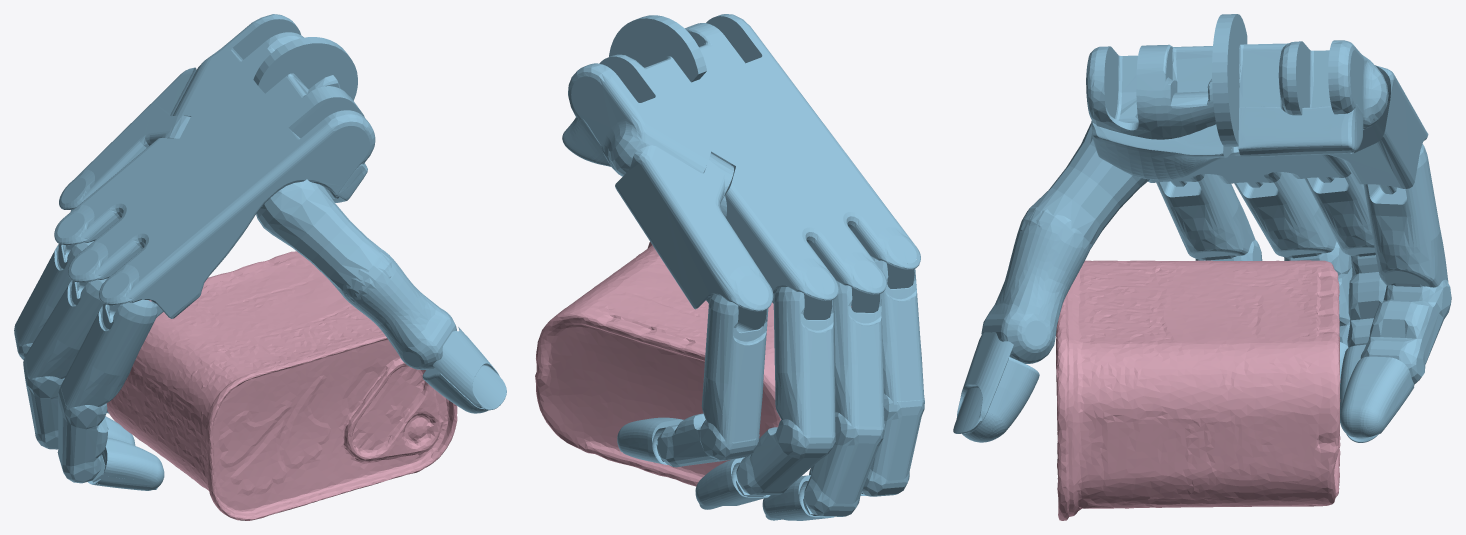
3 renders of one model, left to right at view 1: azimuth 30°, elevation 25°; view 2: azimuth 150°, elevation 25°; view 3: azimuth 270°, elevation 25°, orthographic. The views are drawn at different scales.
Parts seen in each view (by area): view 1: world; view 2: world; view 3: world.
Boxes of the visible parts, x1,y1,x2,y2 form: world: [14, 14, 506, 520]; world: [535, 14, 924, 520]; world: [953, 14, 1451, 520].
Bounding box in the file's own units: 0.1387 × 0.1613 × 0.1463.
